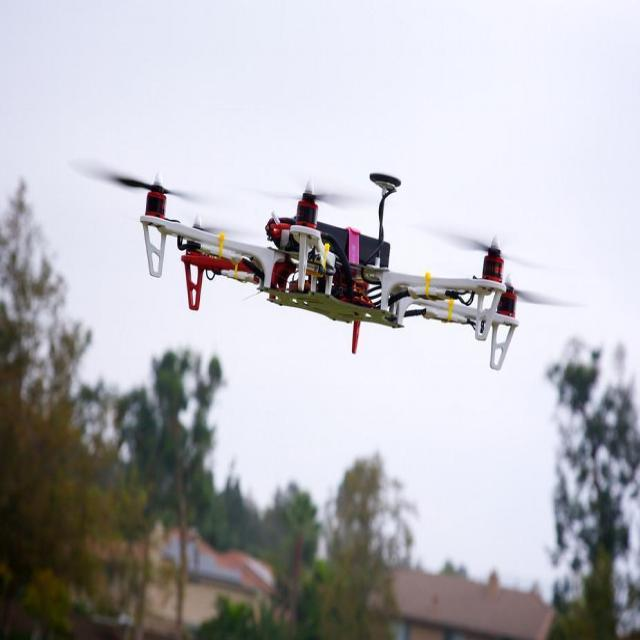UAV: (139, 158, 527, 376)
